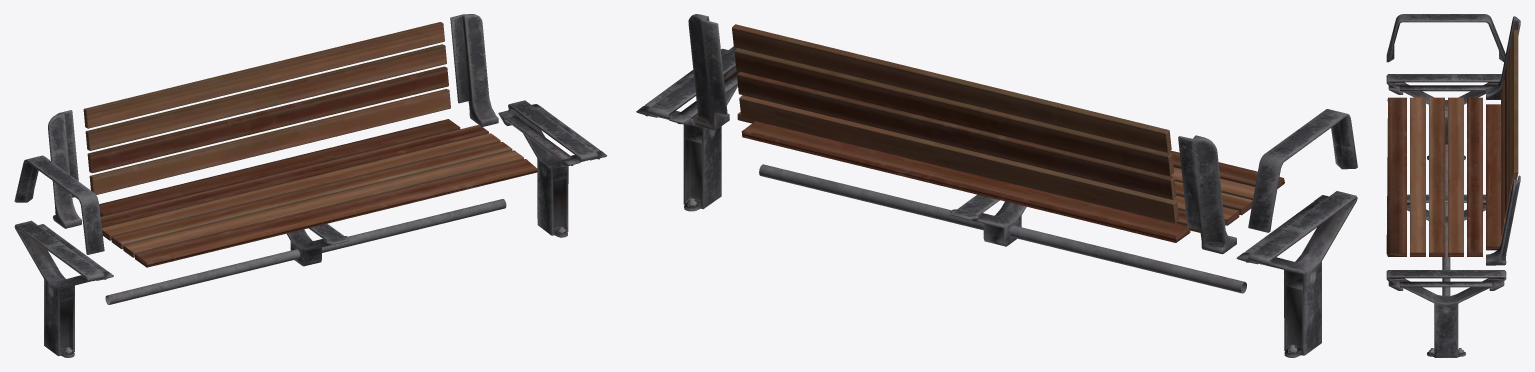
File: street_bench.glb
The picture shows the model from 3 angles, left to right: view 1: azimuth 30°, elevation 25°; view 2: azimuth 150°, elevation 25°; view 3: azimuth 270°, elevation 25°; orthographic projection. The views are drawn at different scales.
Parts seen in each view (by area): view 1: seat, crossbar, legs_double; view 2: seat, crossbar, legs_double; view 3: seat, legs_double, crossbar.
Boxes of the visible parts, x1,y1,x2,y2 form: seat: (83,22,538,267); crossbar: (14,14,506,304); legs_double: (14,100,607,357); seat: (732,24,1284,242); crossbar: (688,14,1357,293); legs_double: (636,46,1357,357); seat: (1386,29,1518,256); legs_double: (1386,74,1506,357); crossbar: (1386,14,1520,296).
Size of the model in its own units: 2.45 by 0.867 by 0.6703.
Materials: 3 (3 with a texture image).
